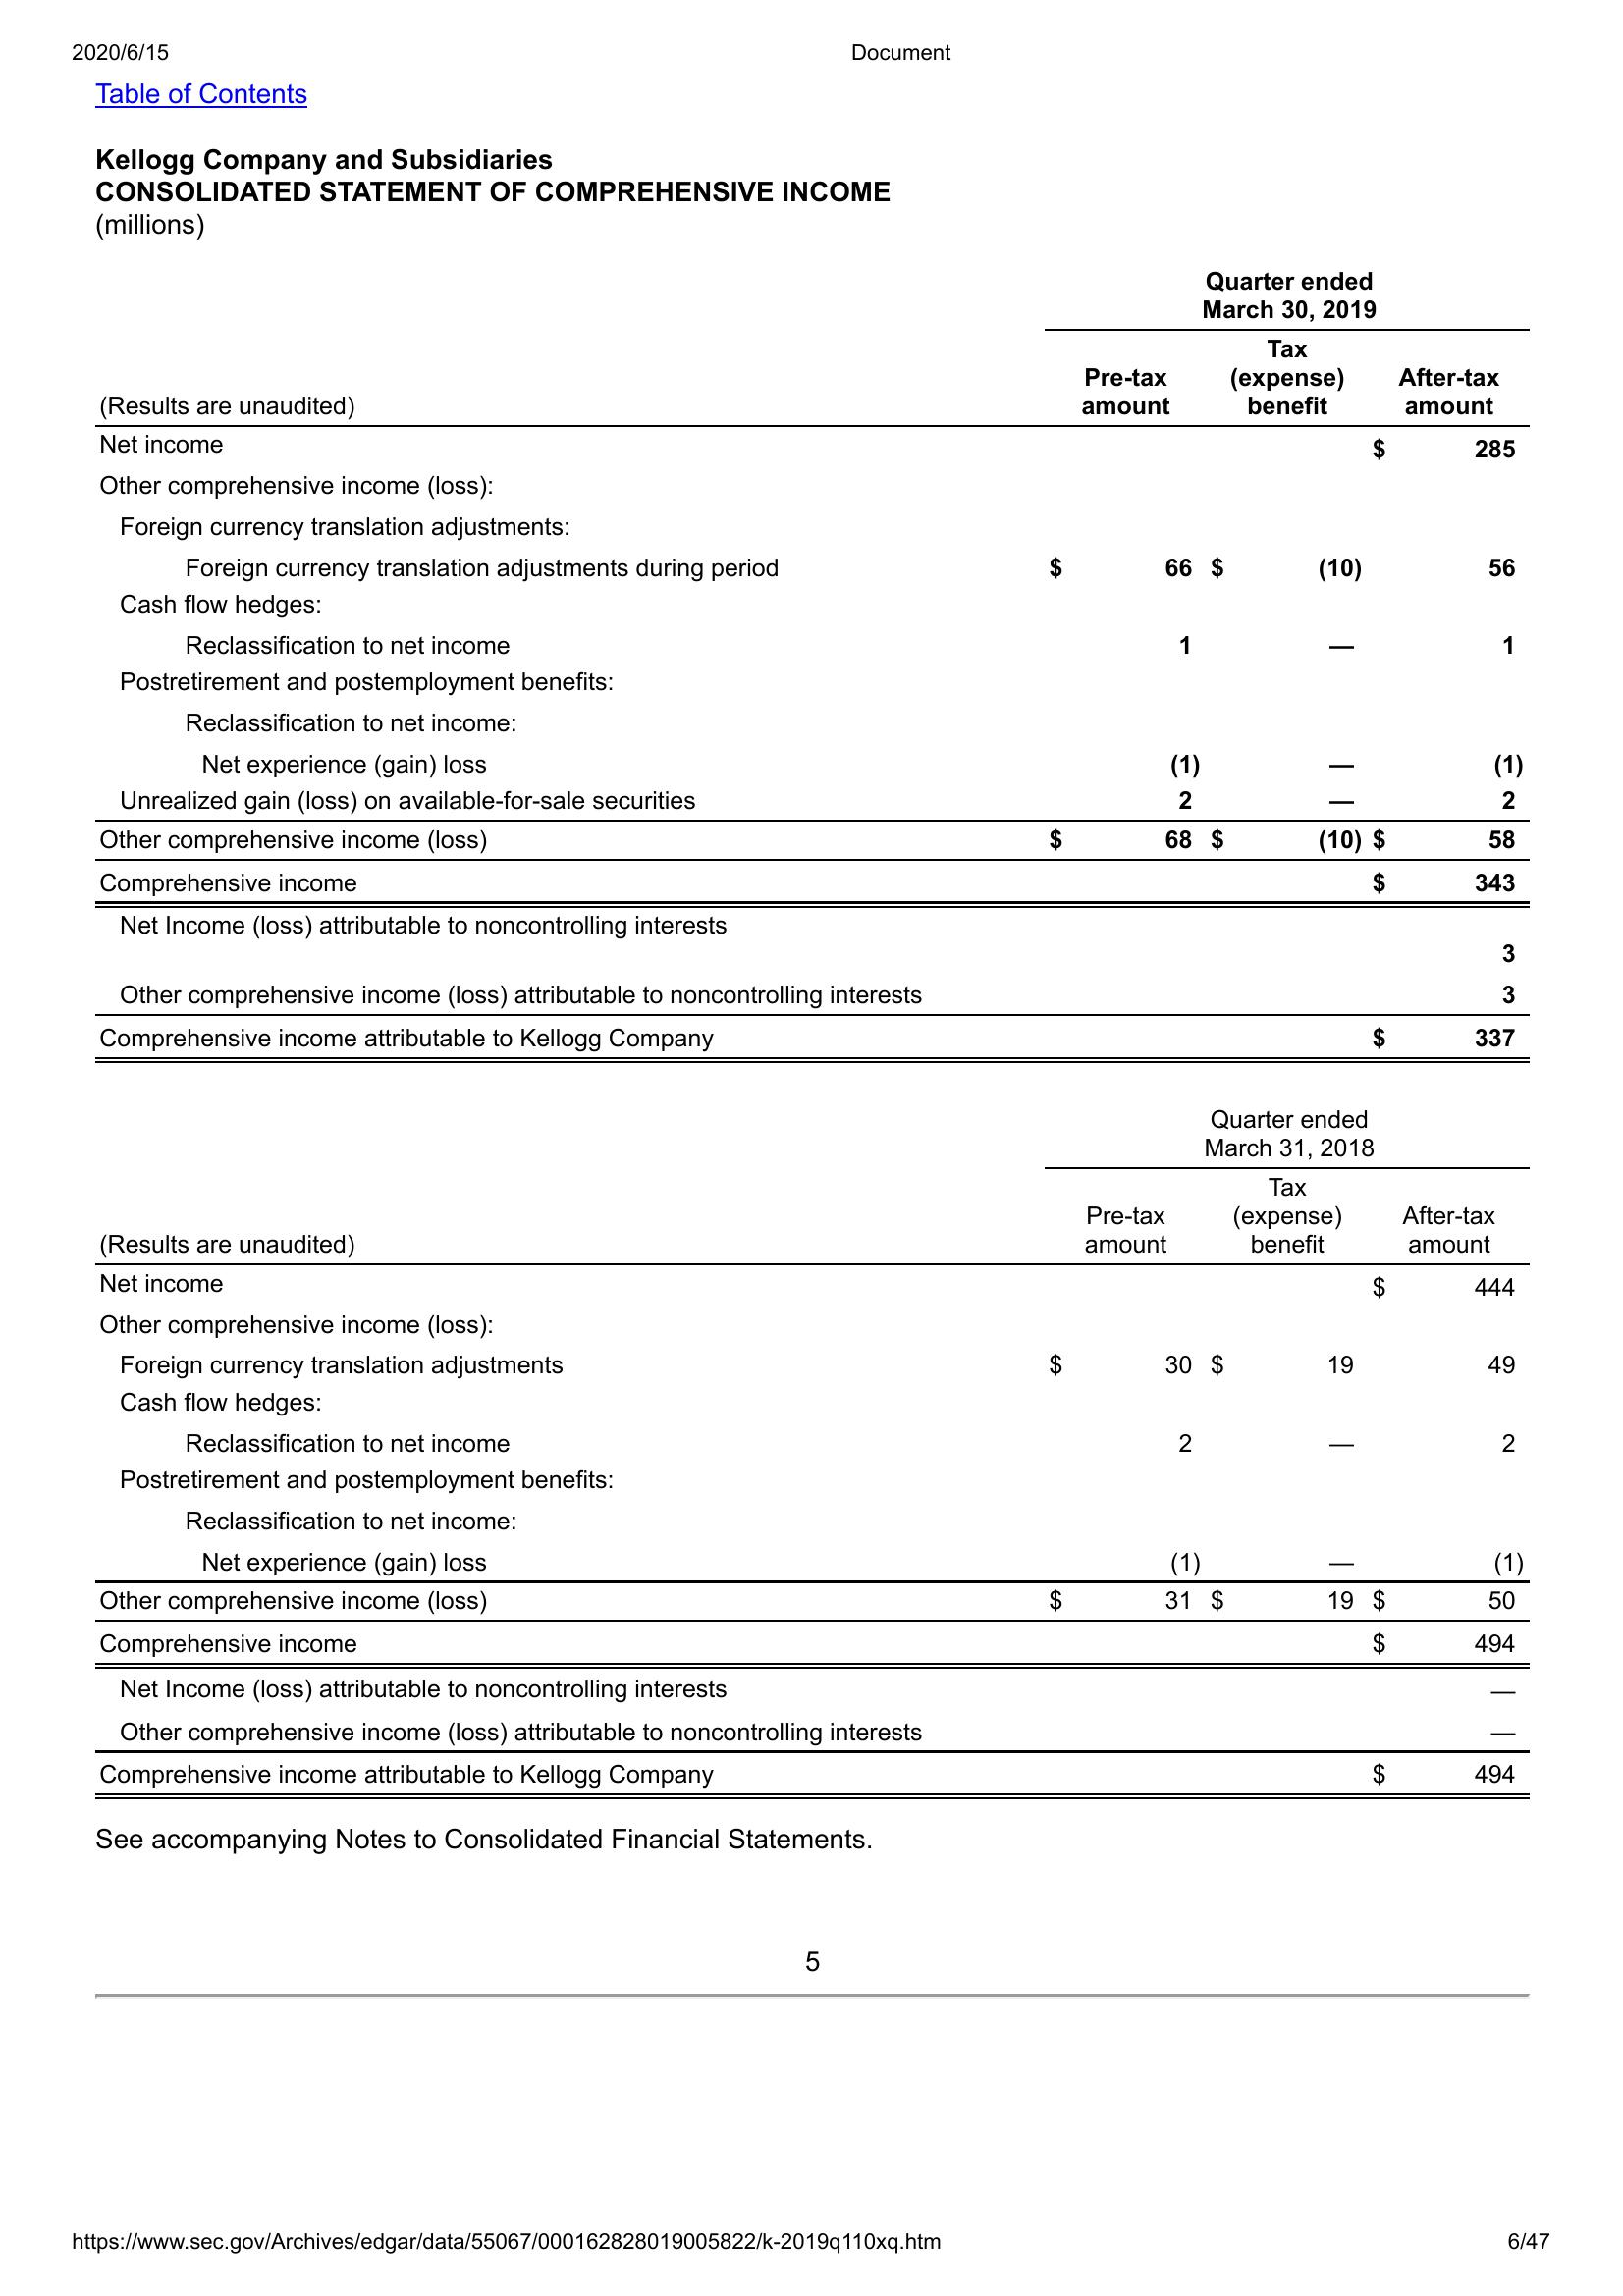table: (88, 263, 1540, 1071), (95, 1101, 1547, 1805)
